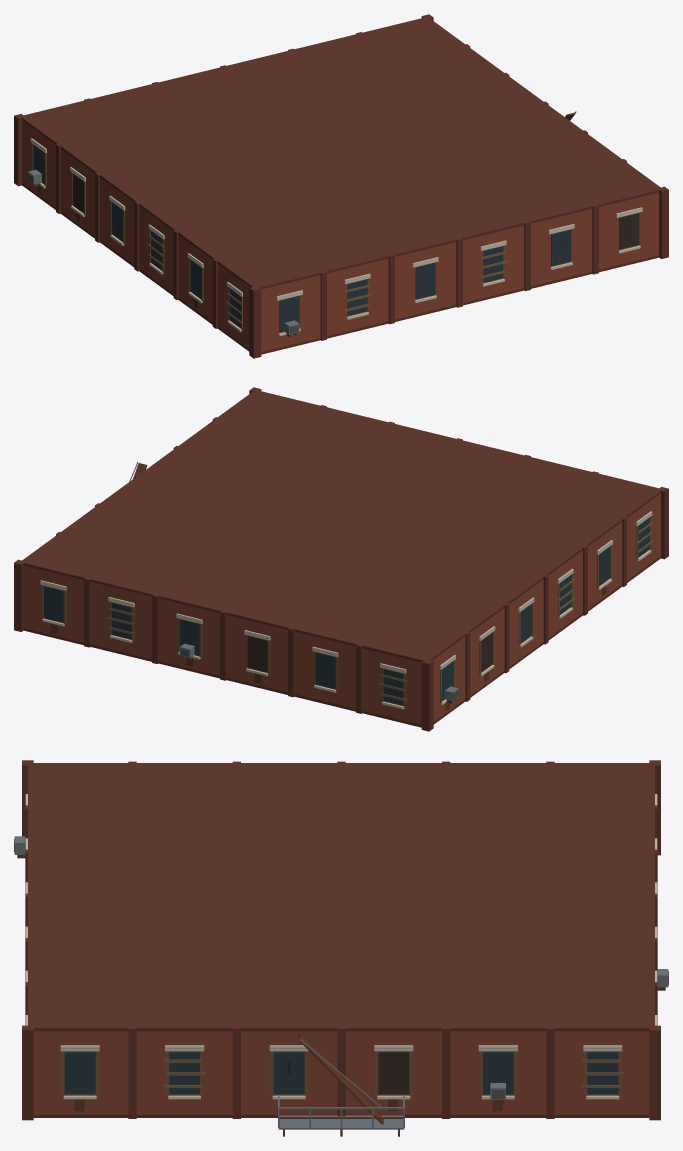
Rendered from tw_brick_24_floor_b.glb.
3 views of the same model, one above another, from view 1: azimuth 30°, elevation 25°; view 2: azimuth 150°, elevation 25°; view 3: azimuth 270°, elevation 25° (orthographic). The views are drawn at different scales.
Visible parts, largest first — view 1: tw_brick_24_floor_b; view 2: tw_brick_24_floor_b; view 3: tw_brick_24_floor_b.
Part boxes in pixels (x1,y1,x2,y2): tw_brick_24_floor_b: [14, 14, 668, 358]; tw_brick_24_floor_b: [14, 387, 668, 731]; tw_brick_24_floor_b: [14, 760, 668, 1136].
Size of what is drawn, in the model's own units: 25.68 by 4.07 by 25.06.
2 materials, 2 textured.
